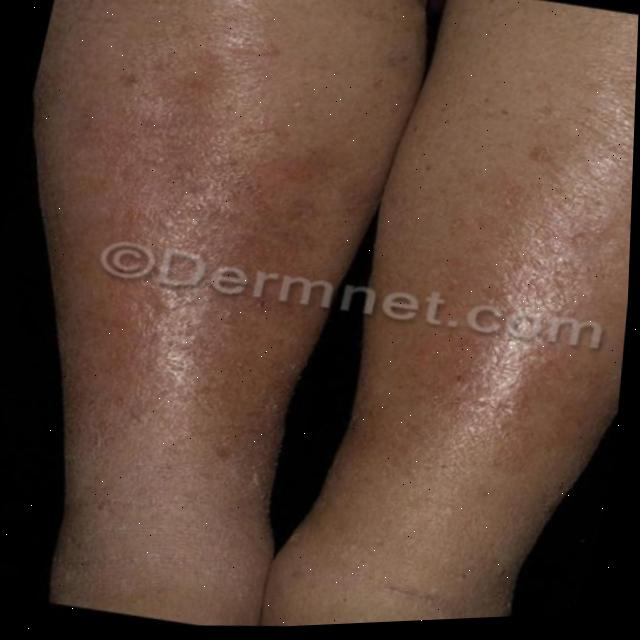Eczema: (47, 96, 317, 467), (409, 153, 616, 400)
